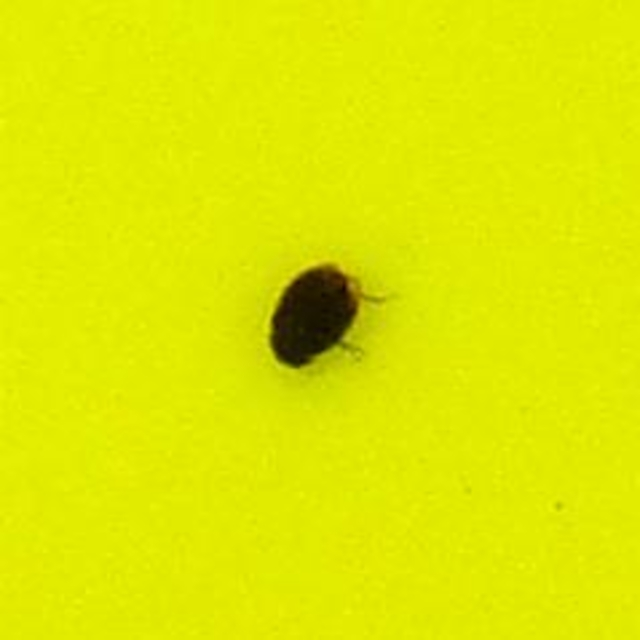Coleoptera: (268, 256, 372, 384)
